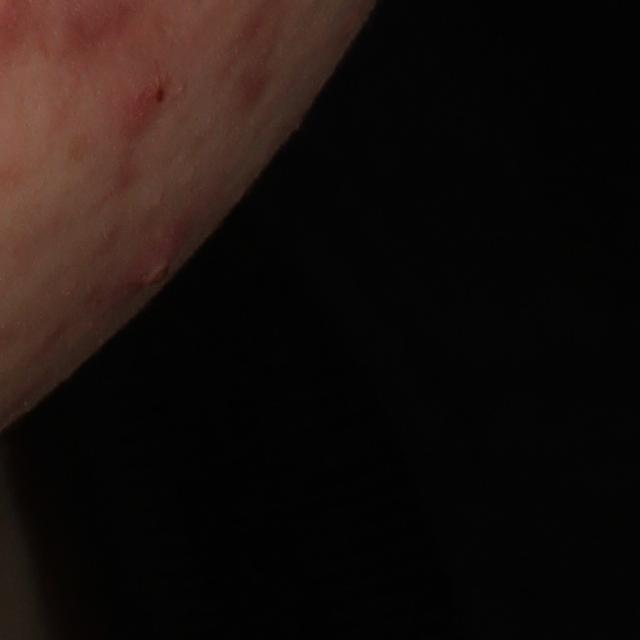papule: (117, 74, 170, 139)
pustule: (126, 229, 177, 300)
